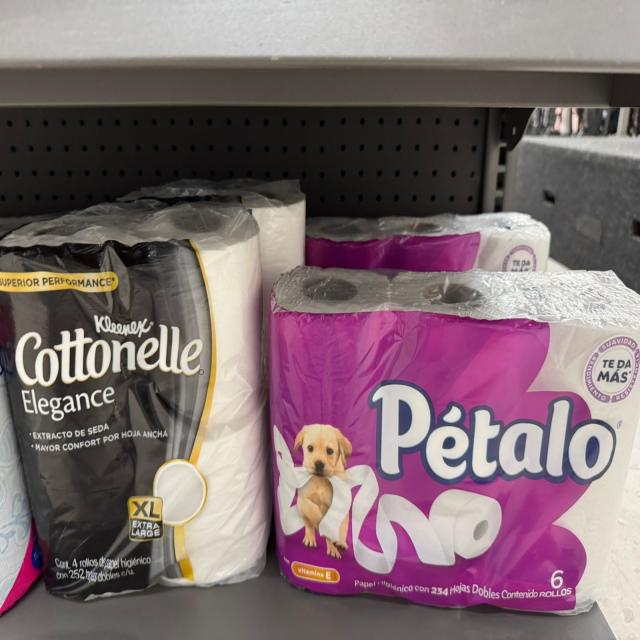Hig Petalo UltraJumbo 6s 234h: (268, 267, 640, 617), (306, 213, 551, 274)
Higienico Cottonelle Elegance XL 252h: (0, 190, 306, 602)
